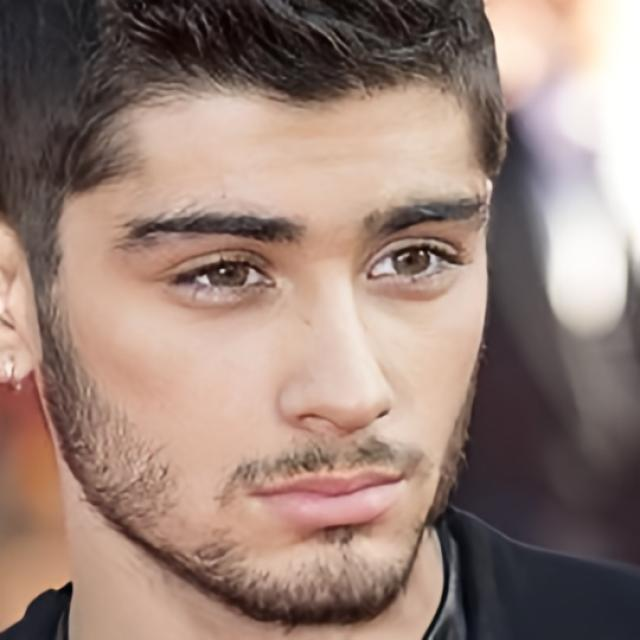neutral: (41, 37, 492, 621)
